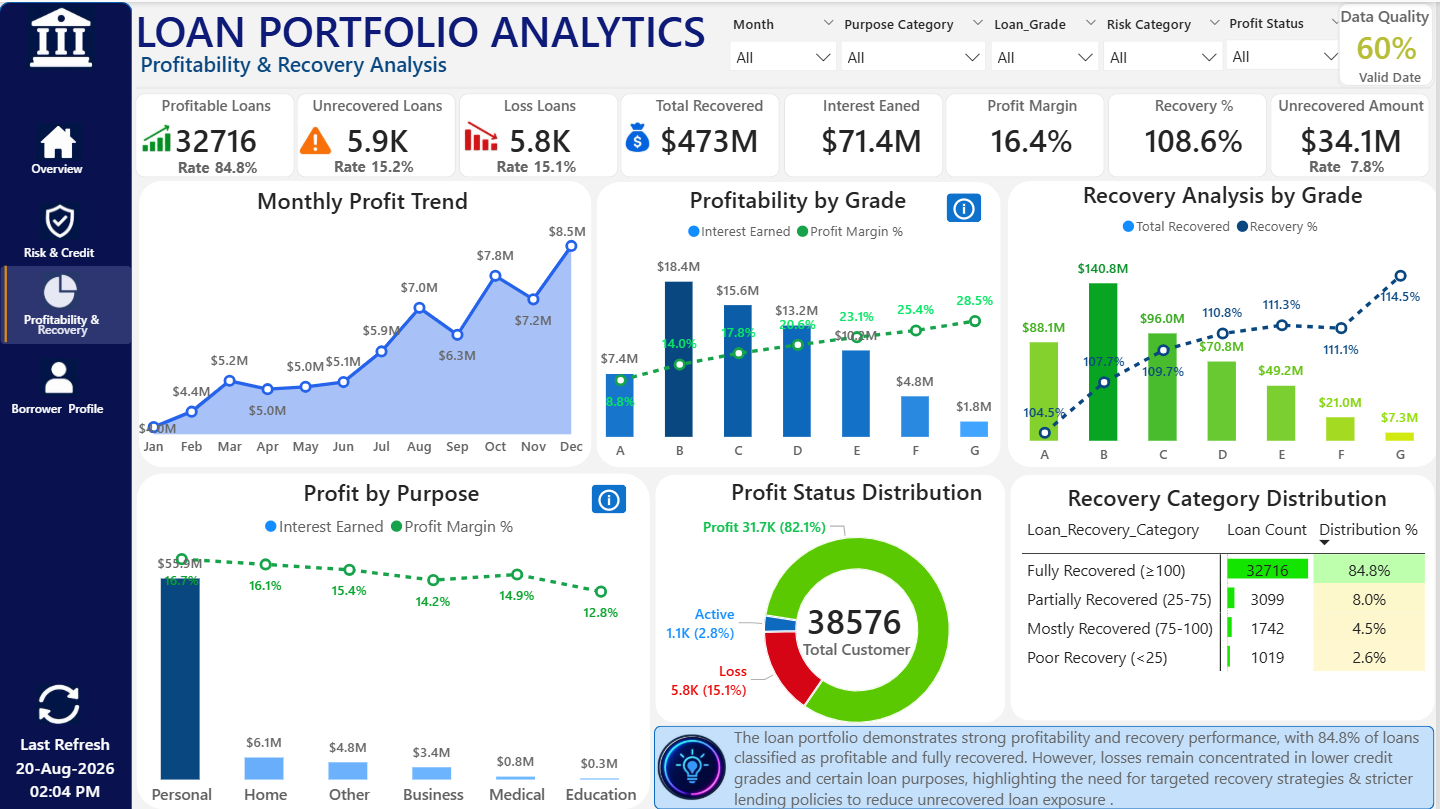

The dashboard page shown, as its layout file describes it:
{"tool":"powerbi","page":{"name":"Profitability & Recovery Analysis","canvas":[1280,720],"ordinal":2},"visuals":[{"type":"textbox","box":[121,0,522,50],"z":0,"group":"g30"},{"type":"cardVisual","fields":{"Data":["_Measures.In-Valid Loans"]},"box":[1191.9,0,86.4,76.7],"z":0,"group":"g29"},{"type":"slicer","fields":{"Values":["Dim_Date.Month Name"]},"box":[645.3,11.5,105.7,56],"z":0,"group":"g28"},{"type":"group","id":"g1","title":"Group 9","box":[120.8,81.8,142,75],"z":0,"group":"g42"},{"type":"cardVisual","fields":{"Data":["_Measures.Profitable Loans Count"]},"box":[120.8,81.8,142,75],"z":0,"group":"g1"},{"type":"group","id":"g2","title":"Group 9","box":[265.3,81.8,142,75],"z":0,"group":"g41"},{"type":"cardVisual","fields":{"Data":["_Measures.Umrecovered Loans Count"]},"box":[265.3,81.8,142,75],"z":0,"group":"g2"},{"type":"group","id":"g3","title":"Group 9","box":[409.7,81.8,142,75],"z":0,"group":"g40"},{"type":"cardVisual","fields":{"Data":["_Measures.Loss Loans Count"]},"box":[409.7,81.8,142,75],"z":0,"group":"g3"},{"type":"group","id":"g4","title":"Group 9","box":[554.2,81.8,142,75],"z":0,"group":"g39"},{"type":"cardVisual","fields":{"Data":["_Measures.Total Payments Received"]},"box":[554.2,81.8,142,75],"z":0,"group":"g4"},{"type":"group","id":"g5","title":"Group 9","box":[698.6,81.8,142,75],"z":0},{"type":"cardVisual","fields":{"Data":["_Measures.Total Profit"]},"box":[698.6,81.8,142,75],"z":0,"group":"g5"},{"type":"cardVisual","fields":{"Data":["_Measures.Unrecovered Amount"]},"box":[1132,81.8,142,75],"z":0,"group":"g37"},{"type":"group","id":"g6","title":"Group 2","box":[20,107.8,66.8,47.3],"z":0,"group":"g17"},{"type":"group","id":"g7","title":"Group 1","box":[20,107.8,66.8,47.3],"z":0,"group":"g6"},{"type":"image","box":[20,107.8,66.8,33.4],"z":0,"group":"g7"},{"type":"cardVisual","fields":{"Data":["_Measures.Profitability count %"]},"box":[187.7,130.4,46.5,32],"z":0,"group":"g19"},{"type":"textbox","box":[298.2,136.6,37.8,23.3],"z":0,"group":"g23"},{"type":"textbox","box":[443.5,136.6,37.8,23.3],"z":0,"group":"g24"},{"type":"textbox","box":[1167,136.6,37.8,23.3],"z":0,"group":"g18"},{"type":"shape","box":[898.5,159.3,383.8,255],"z":0,"group":"g31"},{"type":"shape","box":[123.8,159.4,403,255],"z":0,"group":"g32"},{"type":"shape","box":[532.8,160.3,360,254.1],"z":0,"group":"g43"},{"type":"group","id":"g8","title":"Group 31","box":[1227.3,165.9,31.7,26],"z":0,"group":"g47"},{"type":"group","id":"g9","title":"Group 31","box":[843.5,170.2,31.7,26],"z":0,"group":"g46"},{"type":"group","id":"g10","title":"Group 1","box":[21,178.3,66.9,53.5],"z":0,"group":"g25"},{"type":"image","box":[21,178.3,66.8,33.4],"z":0,"group":"g10"},{"type":"group","id":"g11","title":"Group 5","box":[0,235,118,70],"z":0,"group":"g26"},{"type":"group","id":"g12","title":"Group 1","box":[1,235,117,70],"z":0,"group":"g20"},{"type":"image","box":[21,241.1,66.8,33.4],"z":0,"group":"g12"},{"type":"textbox","box":[34,281,54.5,21.2],"z":0,"group":"g11"},{"type":"group","id":"g13","title":"Group 2","box":[11,317.6,95,53.4],"z":0,"group":"g27"},{"type":"group","id":"g14","title":"Group 1","box":[11,317.6,95,53.4],"z":0,"group":"g13"},{"type":"image","box":[20,317.6,66.8,33.4],"z":0,"group":"g14"},{"type":"shape","box":[122.4,419.8,457.2,299.3],"z":0,"group":"g34"},{"type":"group","id":"g15","title":"Group 18","box":[571.2,420,385.7,248.6],"z":0,"group":"g21"},{"type":"donutChart","title":"Profit Status Distribution","fields":{"Y":["_Measures.Total Loan Count"],"Category":["Dim_Loan.Profit_Status"]},"box":[571.2,420,385.7,248.6],"z":0,"group":"g15"},{"type":"shape","box":[900.3,421.3,378,219.3],"z":0,"group":"g33"},{"type":"shape","box":[584.2,421.4,311.6,221],"z":0,"group":"g35"},{"type":"group","id":"g16","title":"Group 31","box":[527.5,429.9,31.7,26],"z":0,"group":"g45"},{"type":"textbox","box":[714.9,566.9,105.3,33.2],"z":0,"group":"g22"},{"type":"cardVisual","fields":{"Data":["_Measures.Last_Refresh"]},"box":[0,641,118,79],"z":0,"group":"g36"},{"type":"shape","box":[583,644.2,694.9,74.7],"z":0,"group":"g38"},{"type":"shape","box":[0,0,118.6,720],"z":1000},{"type":"slicer","fields":{"Values":["Dim_Loan.Loan_Grade"]},"box":[877.7,11.5,106.7,56],"z":1000,"group":"g28"},{"type":"textbox","box":[126,42,286,25],"z":1000,"group":"g30"},{"type":"textbox","box":[1210.9,55.2,68.3,21.1],"z":1000,"group":"g29"},{"type":"image","box":[413,103.2,32,33.4],"z":1000,"group":"g40"},{"type":"image","box":[553.8,107.5,30,27.5],"z":1000,"group":"g39"},{"type":"group","id":"g17","title":"Group 3","box":[20,107.8,66.8,47.3],"z":1000,"group":"g27"},{"type":"image","box":[267,110,29,29],"z":1000,"group":"g41"},{"type":"cardVisual","fields":{"Data":["_Measures.UnRecovery count %"]},"box":[327.3,129.4,46.5,32],"z":1000,"group":"g23"},{"type":"cardVisual","fields":{"Data":["_Measures.Loss Loan Rate %"]},"box":[472.6,129.4,46.5,32],"z":1000,"group":"g24"},{"type":"group","id":"g18","title":"Group 11","box":[1167,129.4,75.6,32],"z":1000,"group":"g37"},{"type":"cardVisual","fields":{"Data":["_Measures.UnRecovery amount %"]},"box":[1196.1,129.4,46.5,32],"z":1000,"group":"g18"},{"type":"group","id":"g19","title":"Group 11","box":[158.6,130.4,75.6,32],"z":1000,"group":"g42"},{"type":"textbox","box":[28.9,136.2,56.8,18.9],"z":1000,"group":"g7"},{"type":"textbox","box":[158.6,137.6,37.8,23.3],"z":1000,"group":"g19"},{"type":"lineClusteredColumnComboChart","title":"Recovery Analysis by Grade","fields":{"Y":["_Measures.Total Payments Received"],"Y2":["_Measures.Recovery %"],"Category":["Dim_Loan.Loan_Grade"]},"box":[892.8,154.4,390,261],"z":1000,"group":"g31"},{"type":"pieChart","fields":{"Y":["CountNonNull(Dim_Loan.Loan_Grade)"]},"box":[1203.3,155.8,76.5,49.1],"z":1000,"group":"g47"},{"type":"lineClusteredColumnComboChart","title":"Profitability by Grade","fields":{"Category":["Dim_Loan.Loan_Grade"],"Y2":["_Measures.Profit Margin %"],"Y":["_Measures.Total Interest"]},"box":[515.8,159.4,388,253.1],"z":1000,"group":"g43"},{"type":"pieChart","fields":{"Y":["CountNonNull(Dim_Loan.Loan_Grade)"]},"box":[819.5,160.1,76.5,49.1],"z":1000,"group":"g46"},{"type":"areaChart","title":"Monthly Profit Trend","fields":{"Category":["Dim_Date.Month Name"],"Y":["_Measures.Total Interest"]},"box":[119.8,160.4,407,248.7],"z":1000,"group":"g32"},{"type":"textbox","box":[22.2,211.8,65.7,20],"z":1000,"group":"g10"},{"type":"group","id":"g20","title":"Group 2","box":[0,235,118,70],"z":1000,"group":"g11"},{"type":"shape","box":[0,235,12,68],"z":1000,"group":"g20"},{"type":"shape","box":[1,235,117,70],"z":1000,"group":"g12"},{"type":"textbox","box":[11,351,95,20],"z":1000,"group":"g14"},{"type":"pieChart","fields":{"Y":["CountNonNull(Dim_Loan.Loan_Grade)"]},"box":[503.5,419.8,76.5,49.1],"z":1000,"group":"g45"},{"type":"group","id":"g21","title":"Group 13","box":[571.2,420,385.7,248.6],"z":1000,"group":"g35"},{"type":"lineStackedColumnComboChart","title":"Profit by Purpose","fields":{"Category":["Dim_Loan.Purpose_Category"],"Y2":["_Measures.Profit Margin %"],"Y":["_Measures.Total Interest"]},"box":[110.5,420.5,474.4,299.3],"z":1000,"group":"g34"},{"type":"pivotTable","title":"Recovery Category Distribution","fields":{"Rows":["Dim_Loan.Loan_Recovery_Category"],"Values":["_Measures.Total Loan Count","_Measures.% Recovery Dis"]},"box":[910.3,423,366.6,217.6],"z":1000,"group":"g33"},{"type":"group","id":"g22","title":"Group 11","box":[709.9,524,110,75.7],"z":1000,"group":"g21"},{"type":"cardVisual","fields":{"Data":["_Measures.Total Loan Count"]},"box":[709.9,524,103.8,52.8],"z":1000,"group":"g22"},{"type":"image","box":[33,608,39,35],"z":1000,"group":"g36"},{"type":"textbox","box":[654.1,644,625.6,73.3],"z":1000,"group":"g38"},{"type":"textbox","box":[1194,2.3,88.4,23.3],"z":2000,"group":"g29"},{"type":"slicer","fields":{"Values":["Dim_Loan.Purpose_Category"]},"box":[744.1,11.5,139.7,56],"z":2000,"group":"g28"},{"type":"cardVisual","fields":{"Data":["_Measures.Recovery %"]},"box":[987.5,81.8,142,75],"z":2000},{"type":"image","box":[126.3,108.7,26.2,26.2],"z":2000,"group":"g42"},{"type":"group","id":"g23","title":"Group 11","box":[298.2,129.4,75.6,32],"z":2000,"group":"g41"},{"type":"group","id":"g24","title":"Group 11","box":[443.5,129.4,75.6,32],"z":2000,"group":"g40"},{"type":"group","id":"g25","title":"Group 2","box":[21,178.3,66.9,53.5],"z":2000,"group":"g27"},{"type":"textbox","box":[22.2,271.4,75.7,22.3],"z":2000,"group":"g12"},{"type":"image","box":[24,0,61,64],"z":3000},{"type":"slicer","fields":{"Values":["Dim_Risk.Risk_Category"]},"box":[978.5,11.5,116.7,56],"z":3000,"group":"g28"},{"type":"group","id":"g26","title":"Group 4","box":[0,235,118,70],"z":3000,"group":"g27"},{"type":"slicer","fields":{"Values":["Dim_Loan.Profit_Status"]},"box":[1086.8,10,116.3,57],"z":4000,"group":"g28"},{"type":"shape","box":[121,73,1154,6],"z":4000},{"type":"cardVisual","fields":{"Data":["_Measures.Profit Margin %"]},"box":[843.1,81.8,142,75],"z":5000},{"type":"group","id":"g27","title":"Group 6","box":[0,107.8,118,263.2],"z":6000},{"type":"group","id":"g28","title":"Group 7","box":[645.3,10,557.7,57.4],"z":7000},{"type":"group","id":"g29","title":"Group 8","box":[1191.9,0,90.5,76.7],"z":8000},{"type":"group","id":"g30","title":"Group 17","box":[121,0,522,67],"z":9000},{"type":"pageNavigator","box":[0,93,106,299],"z":10000},{"type":"group","id":"g31","title":"Group 23","box":[892.8,154.4,390,261],"z":11000},{"type":"group","id":"g32","title":"Group 10","box":[119.8,159.4,407,255],"z":12000},{"type":"group","id":"g33","title":"Group 12","box":[900.3,421.3,378,219.3],"z":13000},{"type":"group","id":"g34","title":"Group 14","box":[110.5,419.8,474.4,300],"z":14000},{"type":"group","id":"g35","title":"Group 15","box":[571.2,420,385.7,248.6],"z":15000},{"type":"group","id":"g36","title":"Group 30","box":[0,608,118,112],"z":16000},{"type":"group","id":"g37","title":"Group 16","box":[1132,81.8,142,79.6],"z":17000},{"type":"group","id":"g38","title":"Group 24","box":[583,644,696.6,75],"z":17000,"group":"g44"},{"type":"group","id":"g39","title":"Group 19","box":[553.8,81.8,142.4,75],"z":18000},{"type":"group","id":"g40","title":"Group 20","box":[409.7,81.8,142,79.6],"z":19000},{"type":"actionButton","box":[1227.3,165.9,31,26],"z":19001,"group":"g8"},{"type":"actionButton","box":[843.5,170.2,31,26],"z":19001,"group":"g9"},{"type":"actionButton","box":[527.5,429.9,31,26],"z":19001,"group":"g16"},{"type":"group","id":"g41","title":"Group 21","box":[265.3,81.8,142,79.6],"z":20000},{"type":"group","id":"g42","title":"Group 22","box":[120.8,81.8,142,80.6],"z":21000},{"type":"group","id":"g43","title":"Group 25","box":[515.8,159.4,388,255],"z":22000},{"type":"group","id":"g44","title":"Group 26","box":[583,644,696.6,75],"z":23000},{"type":"image","box":[586,652.3,60.5,58.1],"z":23001,"group":"g44"},{"type":"group","id":"g45","title":"Group 32","box":[503.5,419.8,76.5,49.1],"z":24000},{"type":"group","id":"g46","title":"Group 32","box":[819.5,160.1,76.5,49.1],"z":25000},{"type":"group","id":"g47","title":"Group 32","box":[1203.3,155.8,76.7,49.1],"z":26000}]}

Visuals, with their boxes on the page's 1280x720 design canvas (x1, y1, x2, y2). These are canvas units, not pixel positions in the 1440x809 screenshot, which may show the page scaled, cropped or inside an application window:
textbox: 121,0,643,50
cardVisual - _Measures.In-Valid Loans: 1192,0,1278,77
slicer - Dim_Date.Month Name: 645,12,751,68
"Group 9" group: 121,82,263,157
cardVisual - _Measures.Profitable Loans Count: 121,82,263,157
"Group 9" group: 265,82,407,157
cardVisual - _Measures.Umrecovered Loans Count: 265,82,407,157
"Group 9" group: 410,82,552,157
cardVisual - _Measures.Loss Loans Count: 410,82,552,157
"Group 9" group: 554,82,696,157
cardVisual - _Measures.Total Payments Received: 554,82,696,157
"Group 9" group: 699,82,841,157
cardVisual - _Measures.Total Profit: 699,82,841,157
cardVisual - _Measures.Unrecovered Amount: 1132,82,1274,157
"Group 2" group: 20,108,87,155
"Group 1" group: 20,108,87,155
image: 20,108,87,141
cardVisual - _Measures.Profitability count %: 188,130,234,162
textbox: 298,137,336,160
textbox: 444,137,481,160
textbox: 1167,137,1205,160
shape: 898,159,1282,414
shape: 124,159,527,414
shape: 533,160,893,414
"Group 31" group: 1227,166,1259,192
"Group 31" group: 844,170,875,196
"Group 1" group: 21,178,88,232
image: 21,178,88,212
"Group 5" group: 0,235,118,305
"Group 1" group: 1,235,118,305
image: 21,241,88,274
textbox: 34,281,88,302
"Group 2" group: 11,318,106,371
"Group 1" group: 11,318,106,371
image: 20,318,87,351
shape: 122,420,580,719
"Group 18" group: 571,420,957,669
"Profit Status Distribution" donutChart: 571,420,957,669
shape: 900,421,1278,641
shape: 584,421,896,642
"Group 31" group: 528,430,559,456
textbox: 715,567,820,600
cardVisual - _Measures.Last_Refresh: 0,641,118,720
shape: 583,644,1278,719
shape: 0,0,119,720
slicer - Dim_Loan.Loan_Grade: 878,12,984,68
textbox: 126,42,412,67
textbox: 1211,55,1279,76
image: 413,103,445,137
image: 554,108,584,135
"Group 3" group: 20,108,87,155
image: 267,110,296,139
cardVisual - _Measures.UnRecovery count %: 327,129,374,161
cardVisual - _Measures.Loss Loan Rate %: 473,129,519,161
"Group 11" group: 1167,129,1243,161
cardVisual - _Measures.UnRecovery amount %: 1196,129,1243,161
"Group 11" group: 159,130,234,162
textbox: 29,136,86,155
textbox: 159,138,196,161
"Recovery Analysis by Grade" lineClusteredColumnComboChart: 893,154,1283,415
pieChart - CountNonNull(Dim_Loan.Loan_Grade): 1203,156,1280,205
"Profitability by Grade" lineClusteredColumnComboChart: 516,159,904,412
pieChart - CountNonNull(Dim_Loan.Loan_Grade): 820,160,896,209
"Monthly Profit Trend" areaChart: 120,160,527,409
textbox: 22,212,88,232
"Group 2" group: 0,235,118,305
shape: 0,235,12,303
shape: 1,235,118,305
textbox: 11,351,106,371
pieChart - CountNonNull(Dim_Loan.Loan_Grade): 504,420,580,469
"Group 13" group: 571,420,957,669
"Profit by Purpose" lineStackedColumnComboChart: 110,420,585,720
"Recovery Category Distribution" pivotTable: 910,423,1277,641
"Group 11" group: 710,524,820,600
cardVisual - _Measures.Total Loan Count: 710,524,814,577
image: 33,608,72,643
textbox: 654,644,1280,717
textbox: 1194,2,1282,26
slicer - Dim_Loan.Purpose_Category: 744,12,884,68
cardVisual - _Measures.Recovery %: 988,82,1130,157
image: 126,109,152,135
"Group 11" group: 298,129,374,161
"Group 11" group: 444,129,519,161
"Group 2" group: 21,178,88,232
textbox: 22,271,98,294
image: 24,0,85,64
slicer - Dim_Risk.Risk_Category: 978,12,1095,68
"Group 4" group: 0,235,118,305
slicer - Dim_Loan.Profit_Status: 1087,10,1203,67
shape: 121,73,1275,79
cardVisual - _Measures.Profit Margin %: 843,82,985,157
"Group 6" group: 0,108,118,371
"Group 7" group: 645,10,1203,67
"Group 8" group: 1192,0,1282,77
"Group 17" group: 121,0,643,67
pageNavigator: 0,93,106,392
"Group 23" group: 893,154,1283,415
"Group 10" group: 120,159,527,414
"Group 12" group: 900,421,1278,641
"Group 14" group: 110,420,585,720
"Group 15" group: 571,420,957,669
"Group 30" group: 0,608,118,720
"Group 16" group: 1132,82,1274,161
"Group 24" group: 583,644,1280,719
"Group 19" group: 554,82,696,157
"Group 20" group: 410,82,552,161
actionButton: 1227,166,1258,192
actionButton: 844,170,874,196
actionButton: 528,430,558,456
"Group 21" group: 265,82,407,161
"Group 22" group: 121,82,263,162
"Group 25" group: 516,159,904,414
"Group 26" group: 583,644,1280,719
image: 586,652,646,710
"Group 32" group: 504,420,580,469
"Group 32" group: 820,160,896,209
"Group 32" group: 1203,156,1280,205
